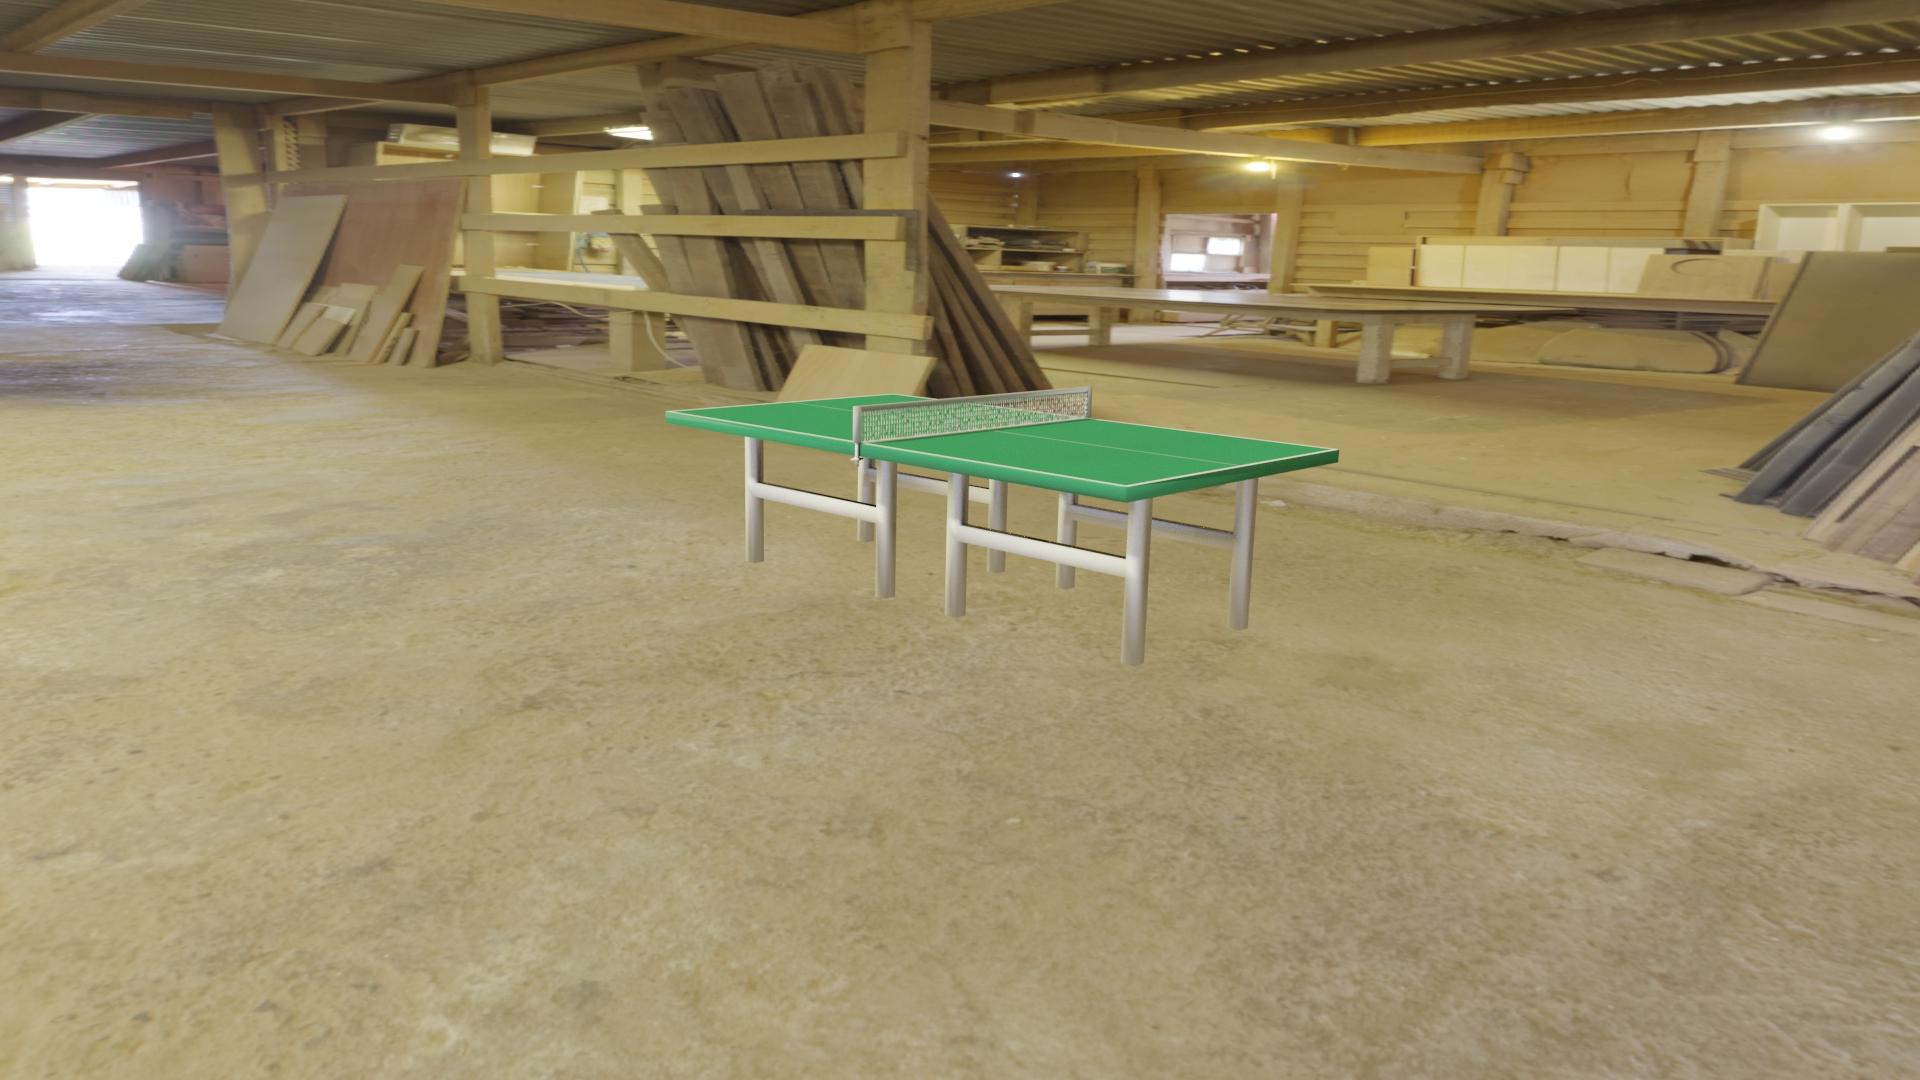table: (671, 394, 1333, 485)
